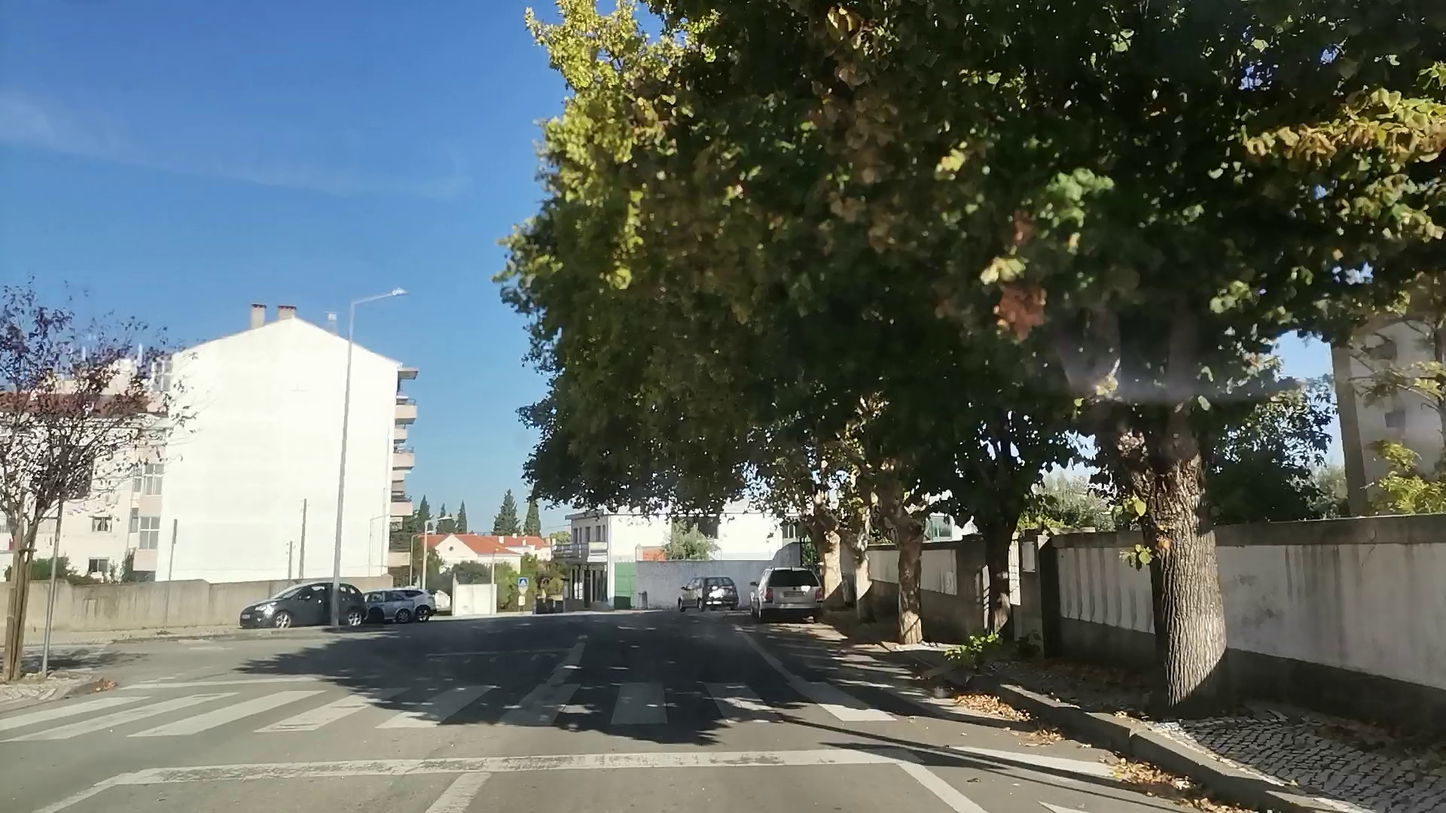Stairs: (0, 685, 894, 738)
